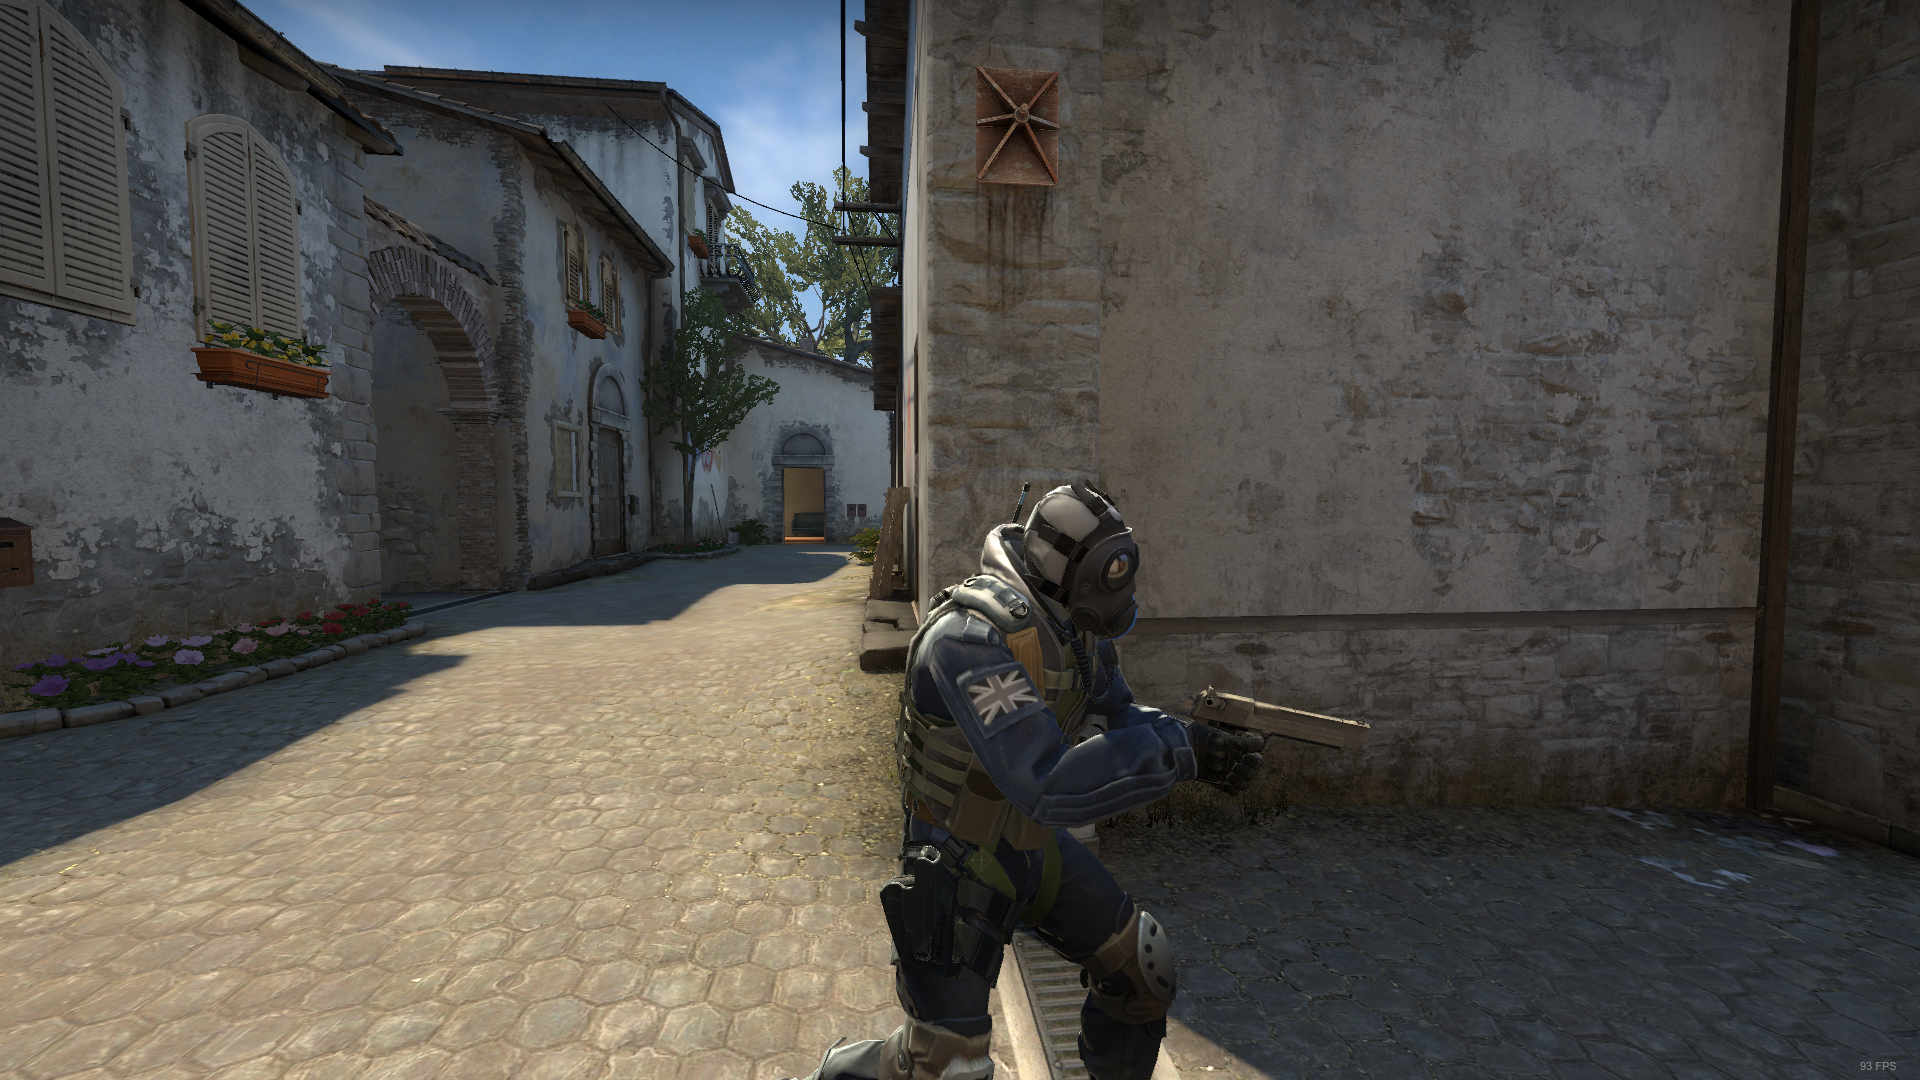ct: (814, 481, 1265, 1080)
